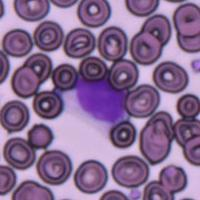M: (66, 76, 128, 131)
